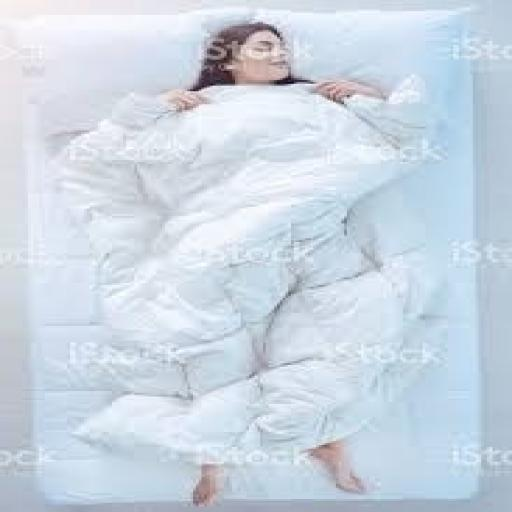sleeping: (53, 20, 445, 506)
